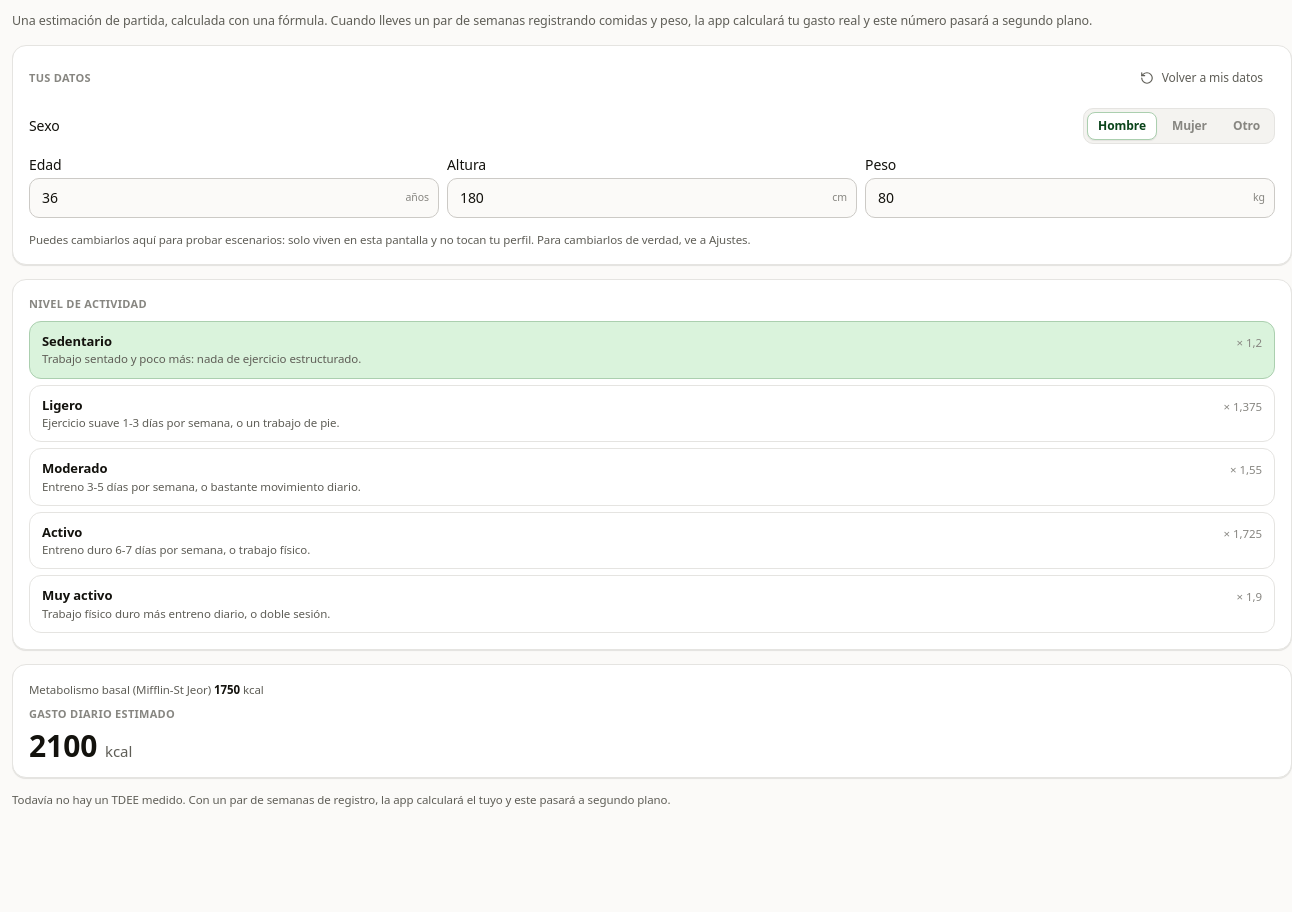
TdeeCalculator › recomputes when the activity level changes
The width and height of the screenshot is (1292, 912).
Click the radio button labelled "Muy activo" at (77, 595), box 29,575 -> 1275,633
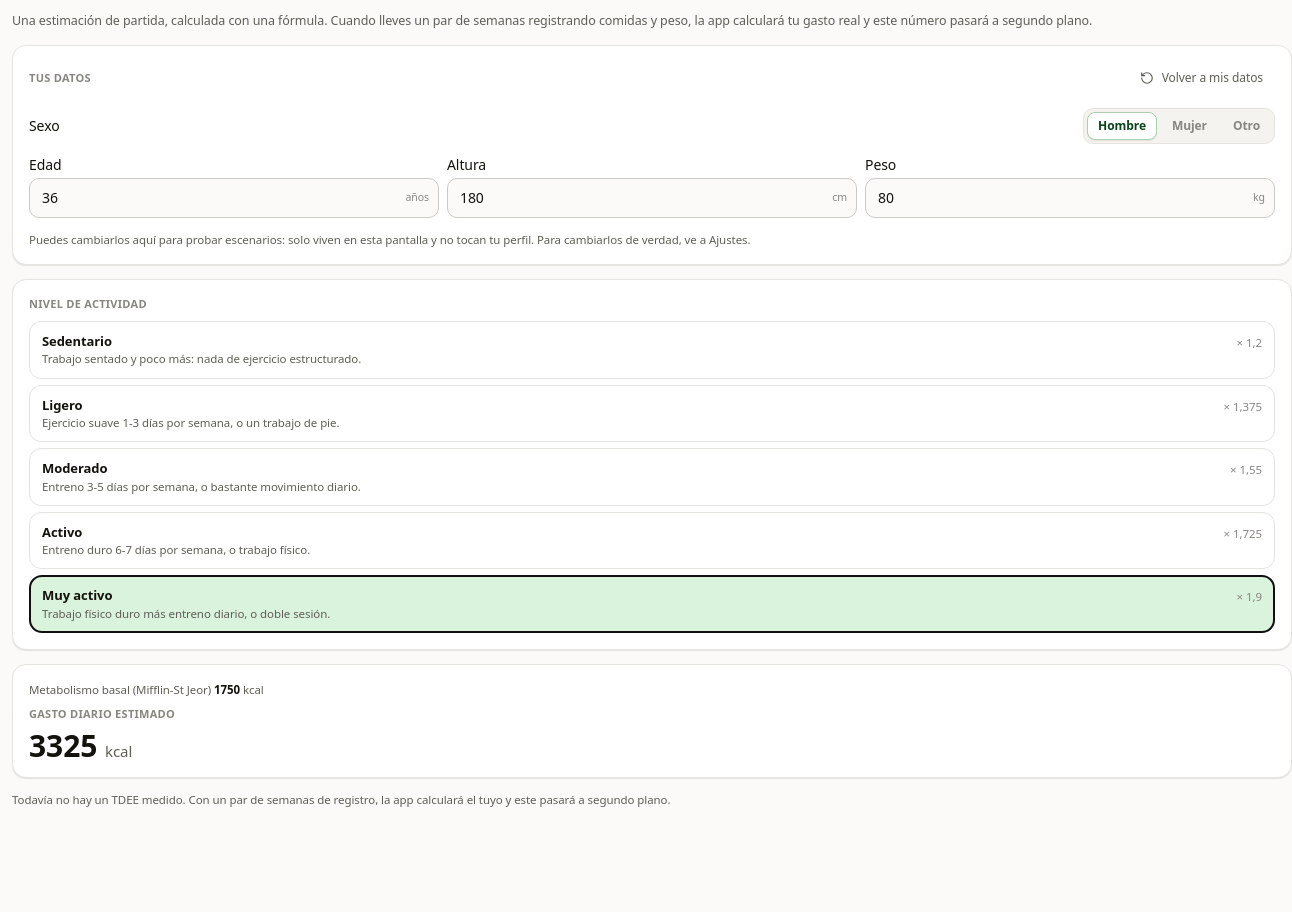
Expected: the element with test id "tdee-result" shows "3325", 29,725 -> 97,766
